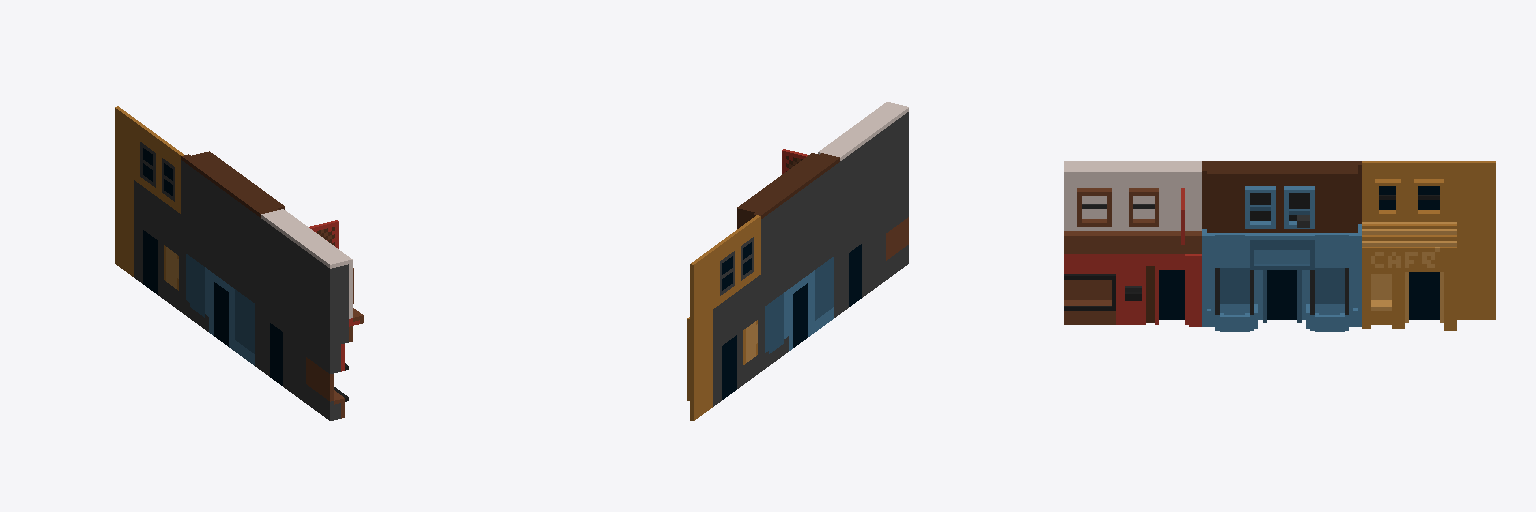
3 renders of one model, left to right at view 1: azimuth 30°, elevation 25°; view 2: azimuth 150°, elevation 25°; view 3: azimuth 270°, elevation 25°, orthographic.
Visible parts, largest first — view 1: object 1; view 2: object 1; view 3: object 1.
Part boxes in pixels (bbox=[...]): object 1: bbox=[115, 106, 363, 420]; object 1: bbox=[687, 102, 908, 420]; object 1: bbox=[1064, 161, 1495, 331].
Size of the model in its own units: 1.8 by 4 by 10.
Materials: 1 (1 with a texture image).